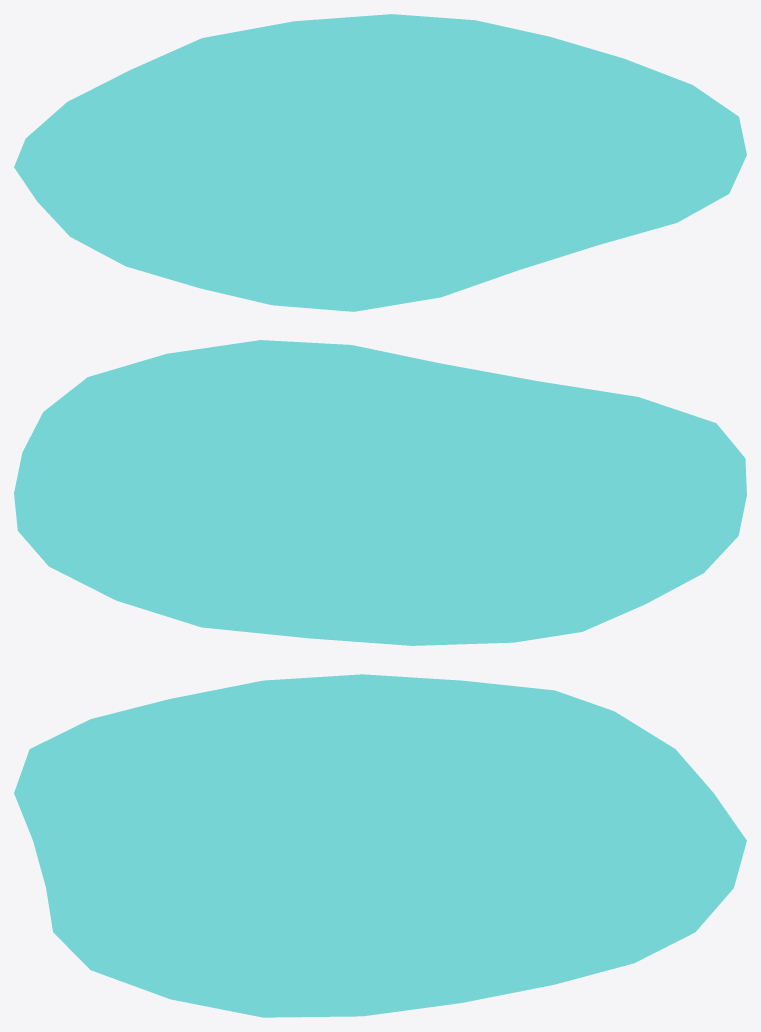
File: OasisWaterPlane.fbx
3 views of the same model, one above another, from view 1: azimuth 30°, elevation 25°; view 2: azimuth 150°, elevation 25°; view 3: azimuth 270°, elevation 25° (orthographic). The views are drawn at different scales.
Parts seen in each view (by area): view 1: pDisc3; view 2: pDisc3; view 3: pDisc3.
Part boxes in pixels (box(x1,y1,x2,y2)): pDisc3: box(14, 14, 746, 311); pDisc3: box(14, 340, 746, 645); pDisc3: box(14, 674, 746, 1017).
Size of the model in its own units: 4055 by 0 by 3659.
